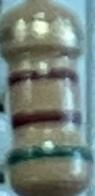Black: (7, 67, 80, 88)
Brown: (12, 104, 82, 128)
Green: (8, 142, 91, 169)
Side-Silver: (3, 17, 84, 48)
